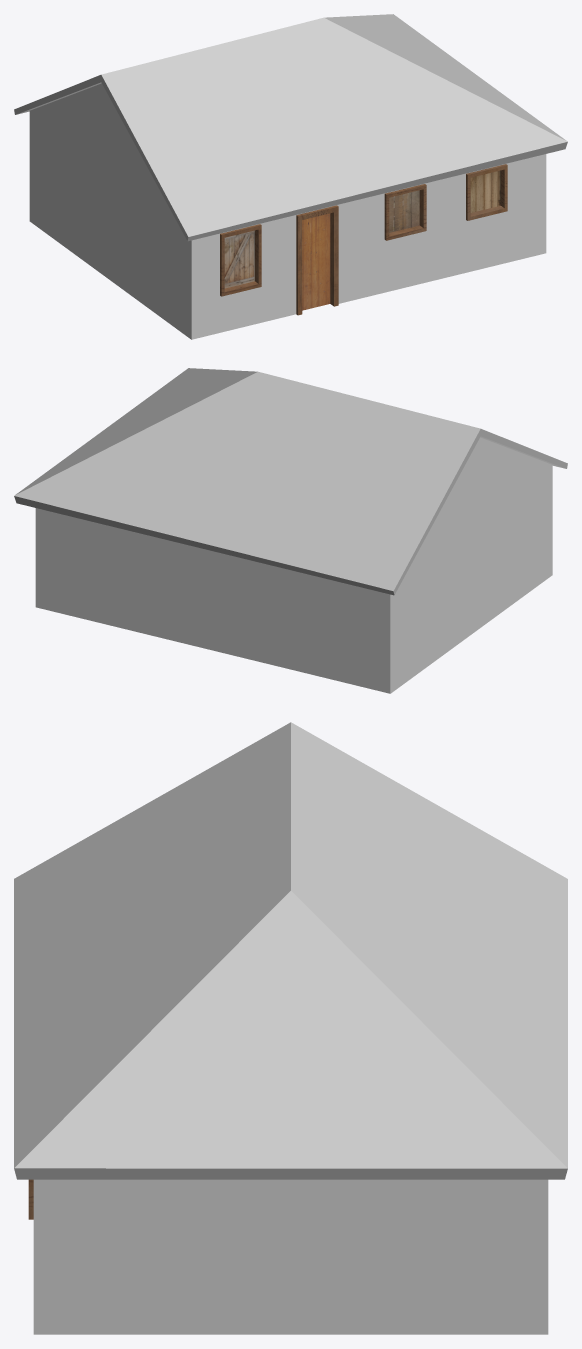
File: 19_casa.fbx
3 renders of one model, top to bottom at view 1: azimuth 30°, elevation 25°; view 2: azimuth 150°, elevation 25°; view 3: azimuth 270°, elevation 25°, orthographic. The views are drawn at different scales.
Visible parts, largest first — view 1: telhado, casa19_LOD0; view 2: telhado, casa19_LOD0; view 3: telhado, casa19_LOD0.
Boxes of the visible parts, x1,y1,x2,y2 form: telhado: (14,14,567,241); casa19_LOD0: (29,83,546,339); telhado: (14,368,567,595); casa19_LOD0: (35,437,552,693); telhado: (14,722,567,1179); casa19_LOD0: (28,1179,548,1334).
Size of what is drawn, in the model's own units: 720 by 382 by 573.
